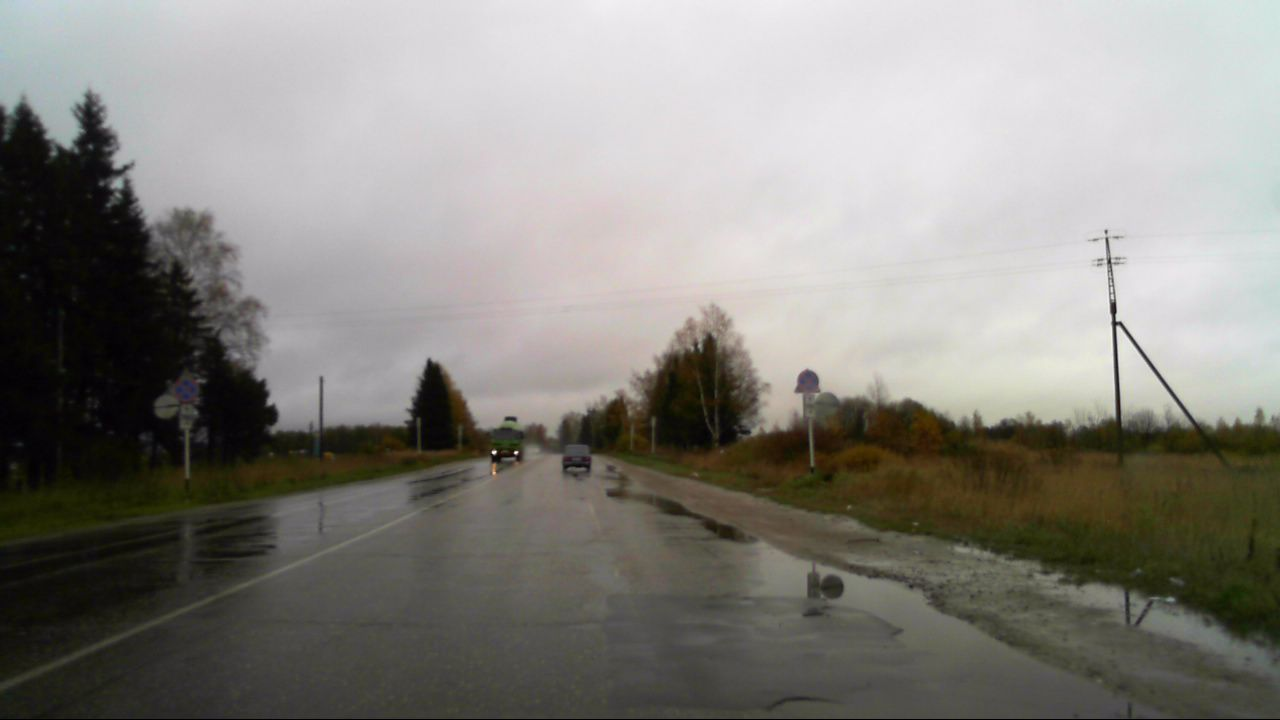No Parking: (173, 376, 200, 404)
